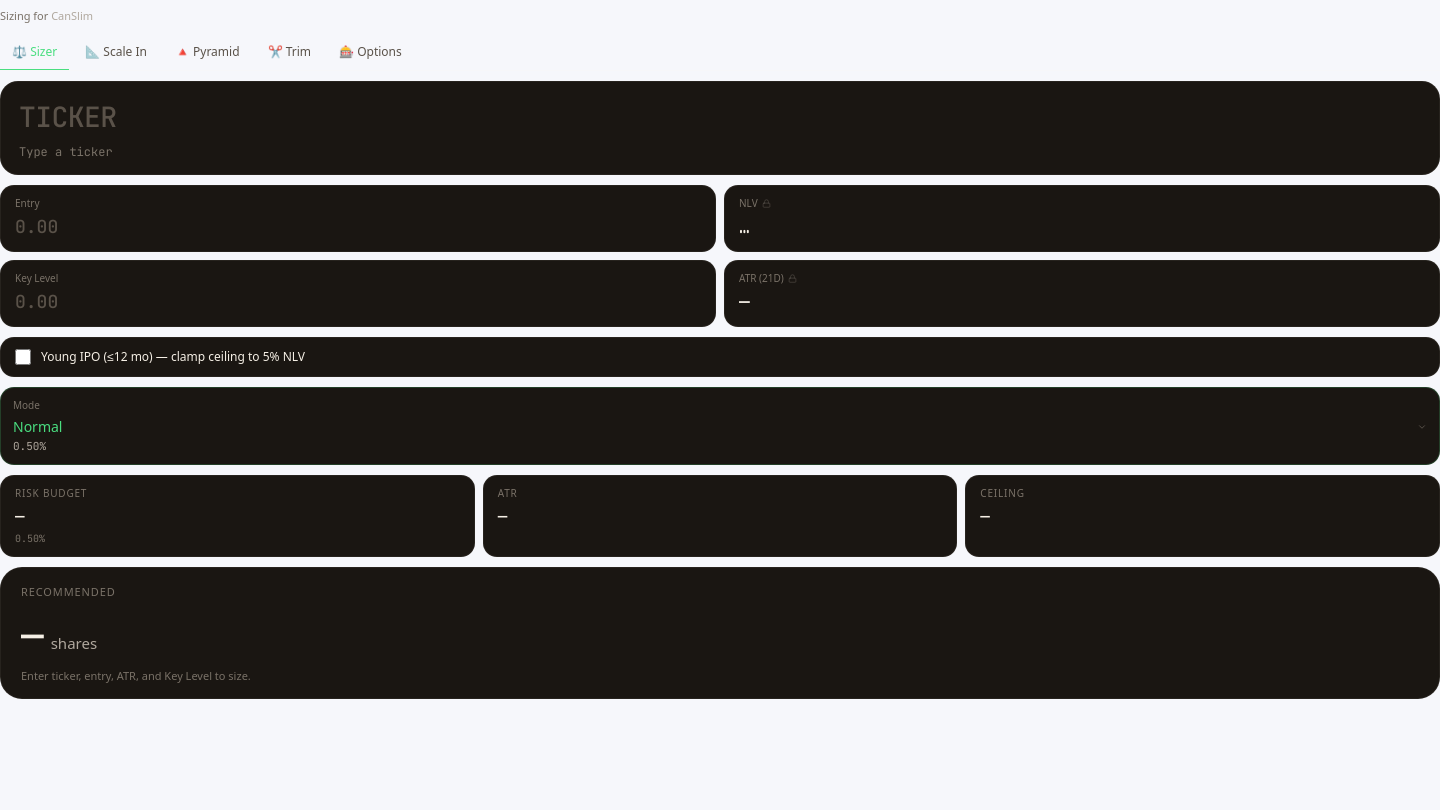
Test: MobileHoldingPicker — sourced from tradesOpen › opens a sheet listing each holding and selects on tap
Click the tab "📐 Scale In" at {"x": 116, "y": 52}, box [73, 34, 159, 70]
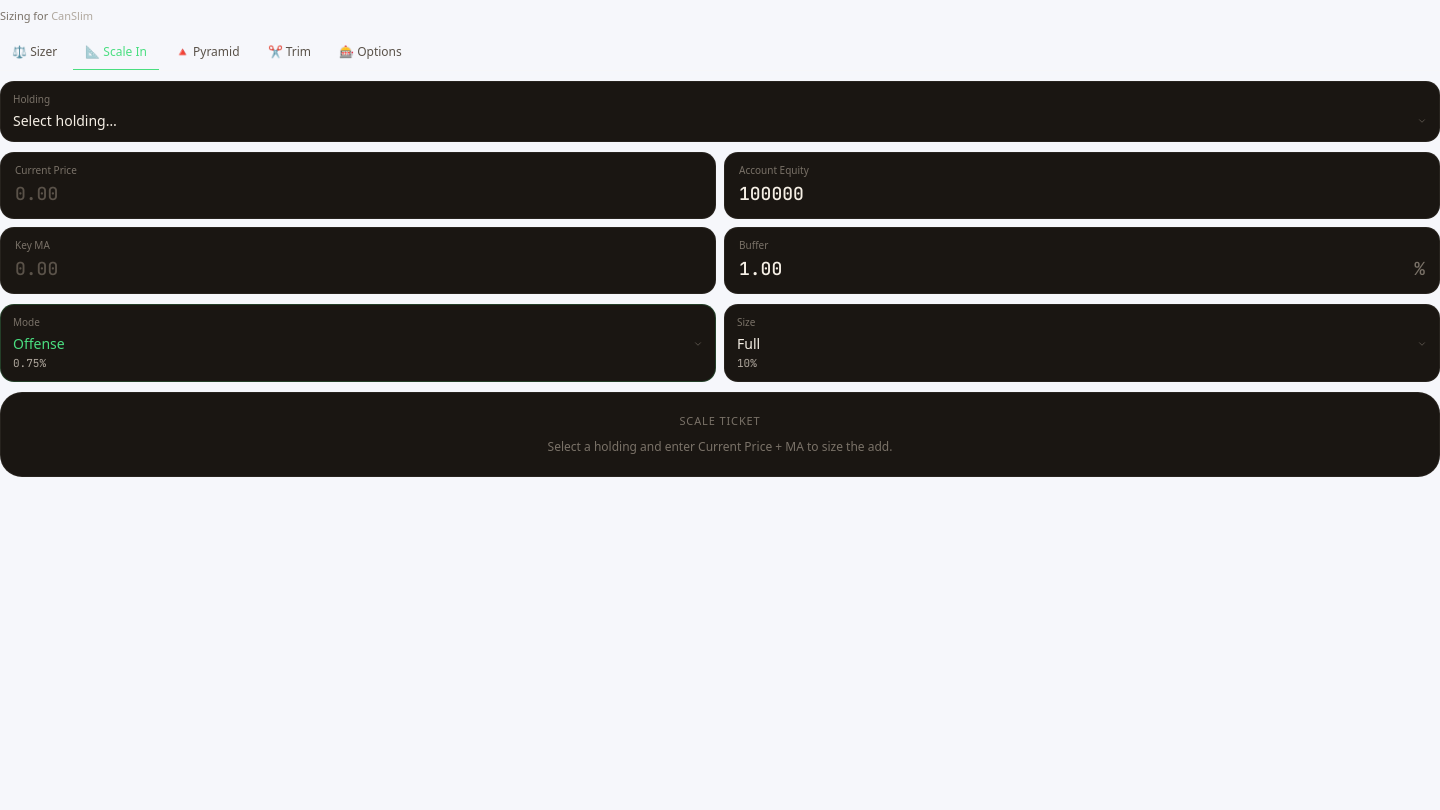
Click the button with aria-label "Holding:" at {"x": 32, "y": 98}, box [0, 80, 1439, 142]
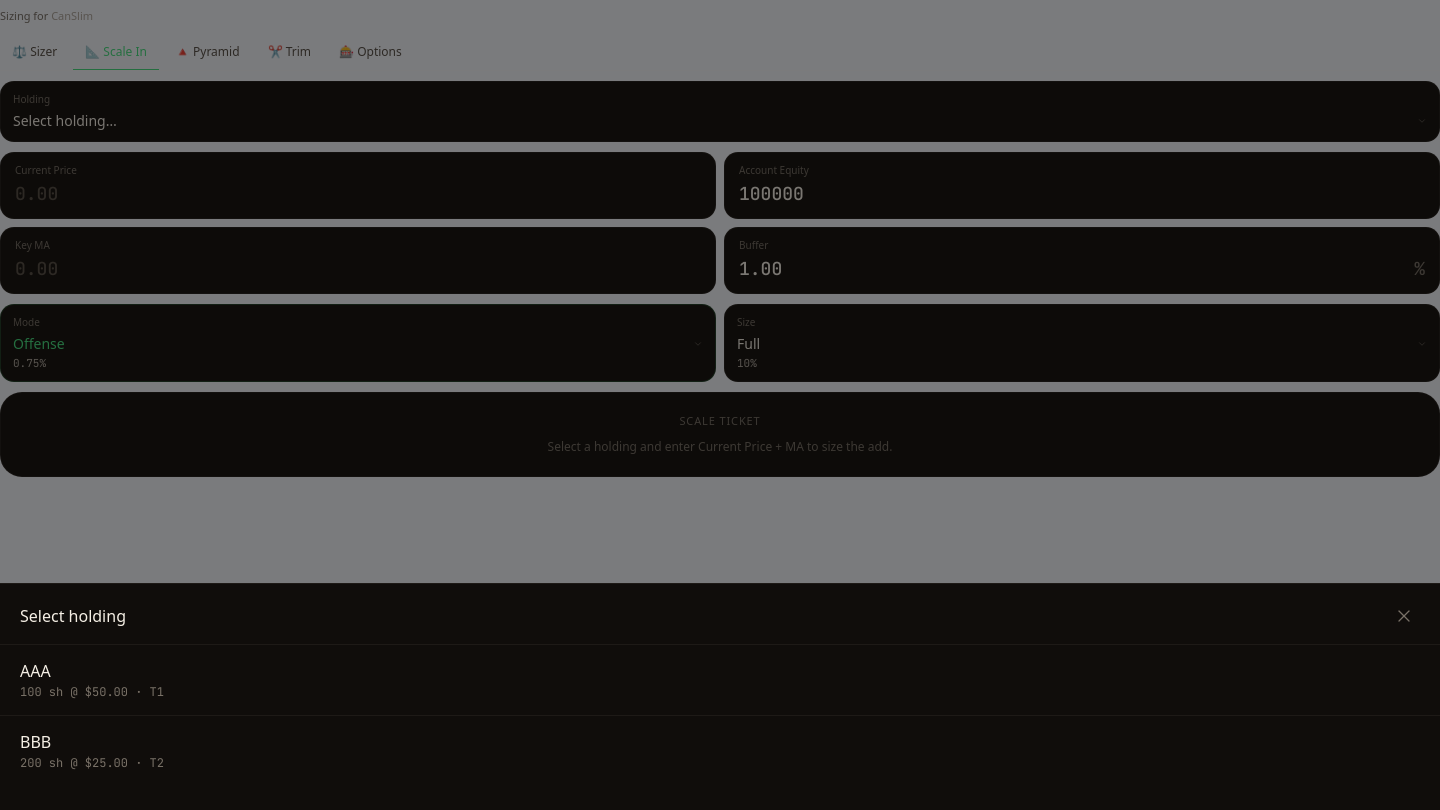
Result: the text "AAA" is shown
Result: the text "BBB" is shown at [20, 731, 51, 753]
Click the text "AAA" at {"x": 35, "y": 671}, box [20, 660, 51, 682]
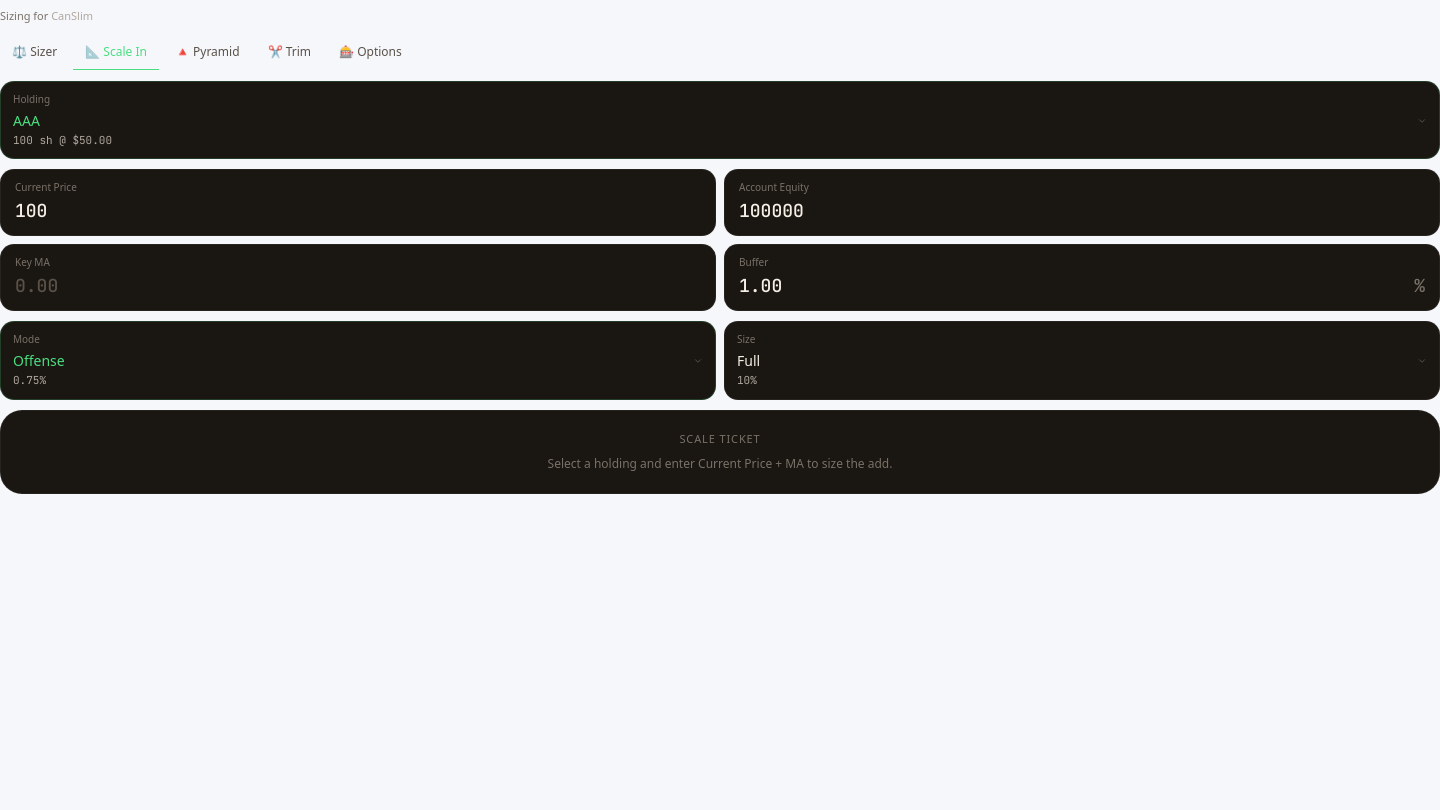
Result: the dialog is gone
Result: the button with aria-label "Holding: AAA" is shown at [0, 80, 1439, 159]
